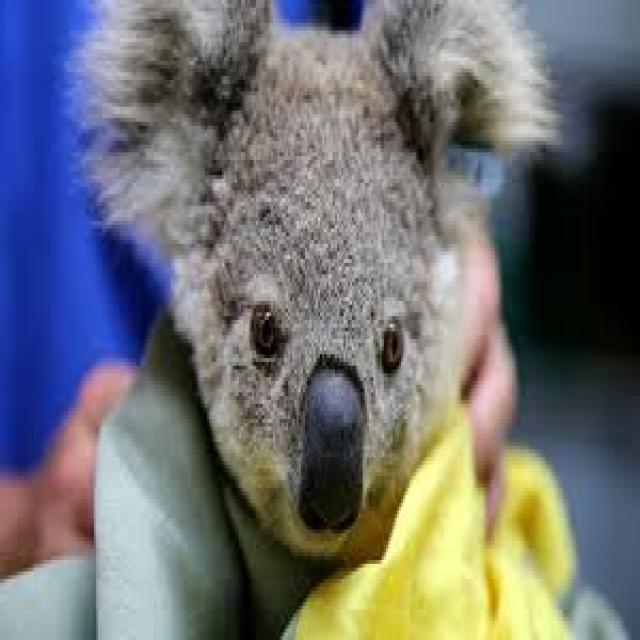Koala: (68, 0, 576, 564)
